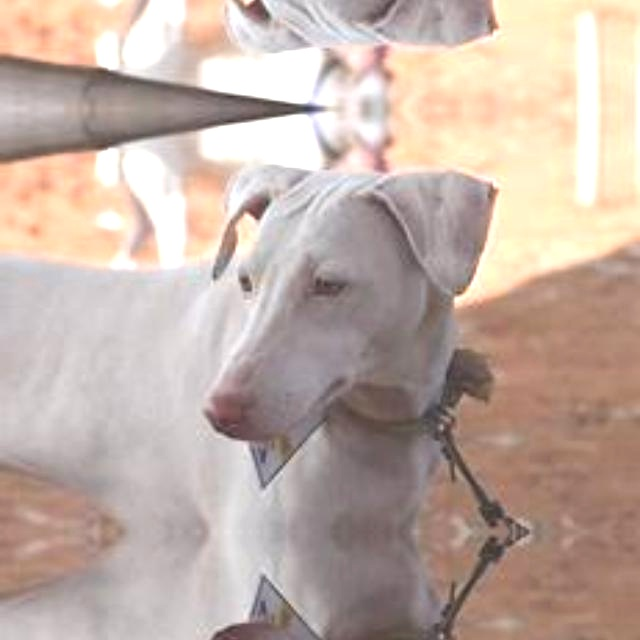dog: (90, 140, 509, 531), (90, 532, 509, 640), (90, 0, 509, 75)
